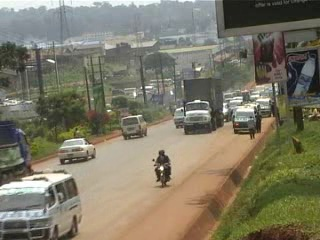Car: (57, 136, 99, 165), (220, 100, 232, 124)
Motorcycle: (151, 149, 172, 188)
